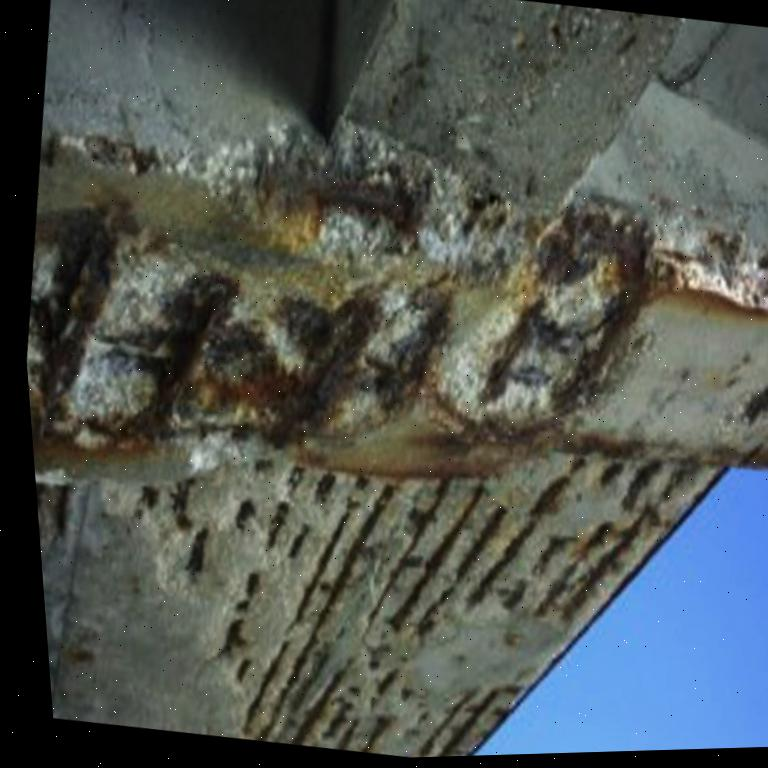spalling: (27, 121, 768, 757)
